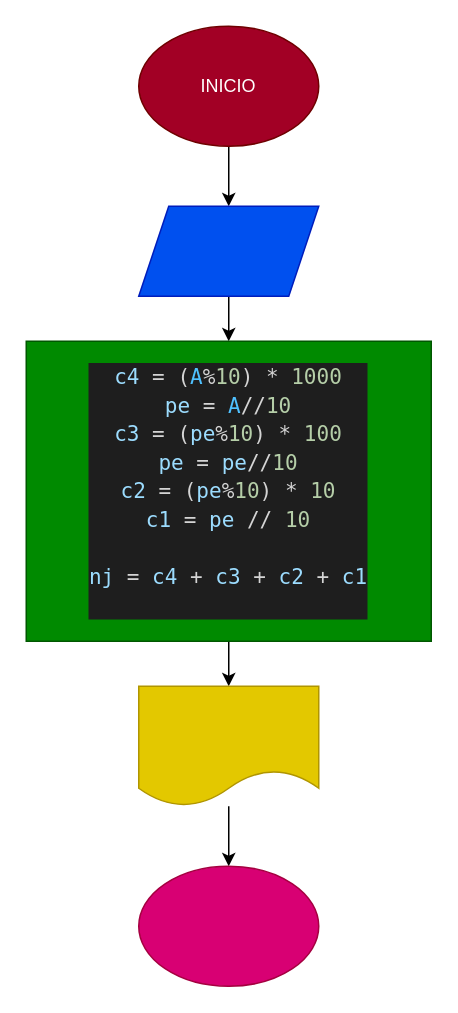
This 458x1013 diagram has some shape labels left out. Each missing label, with the centre of its shape:
A=1234: (228,250)
NJ: (228,745)
